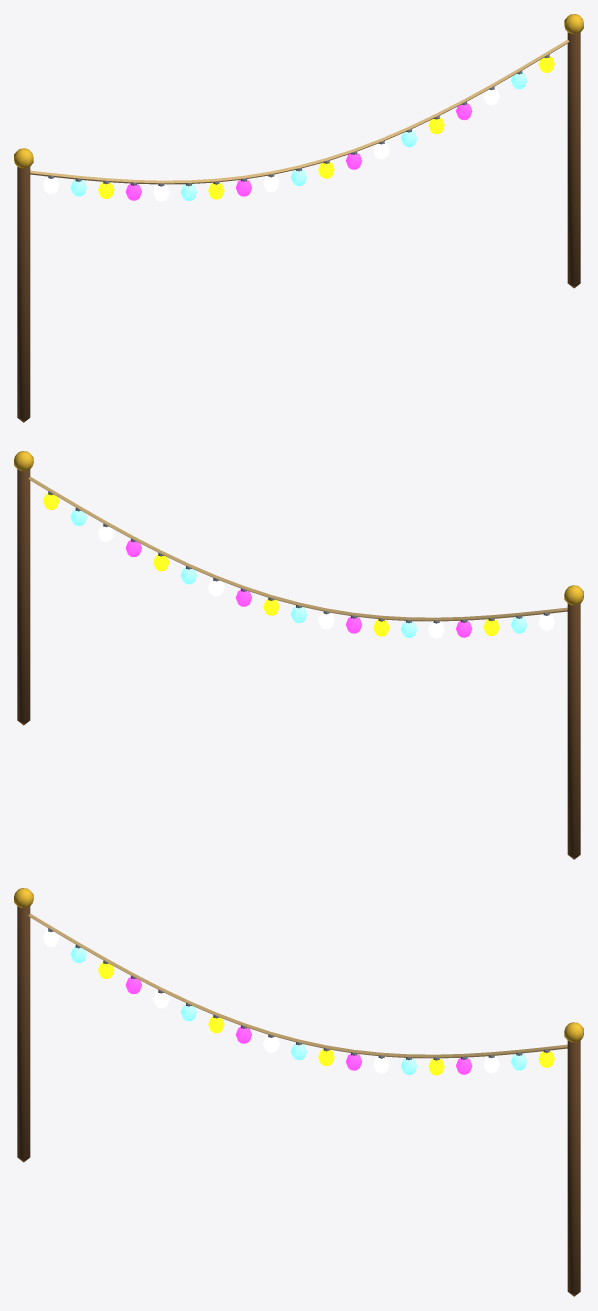
The model's file is W6_Garland_B.fbx.
3 renders of one model, top to bottom at view 1: azimuth 30°, elevation 25°; view 2: azimuth 150°, elevation 25°; view 3: azimuth 330°, elevation 25°, orthographic.
Visible parts, largest first — view 1: W6_Garland_B; view 2: W6_Garland_B; view 3: W6_Garland_B.
Part boxes in pixels (x1=…): W6_Garland_B: x1=14, y1=14, x2=583, y2=422; W6_Garland_B: x1=14, y1=451, x2=583, y2=859; W6_Garland_B: x1=14, y1=888, x2=583, y2=1296.
Size of the model in its own units: 9.49 by 4.37 by 0.2929.
